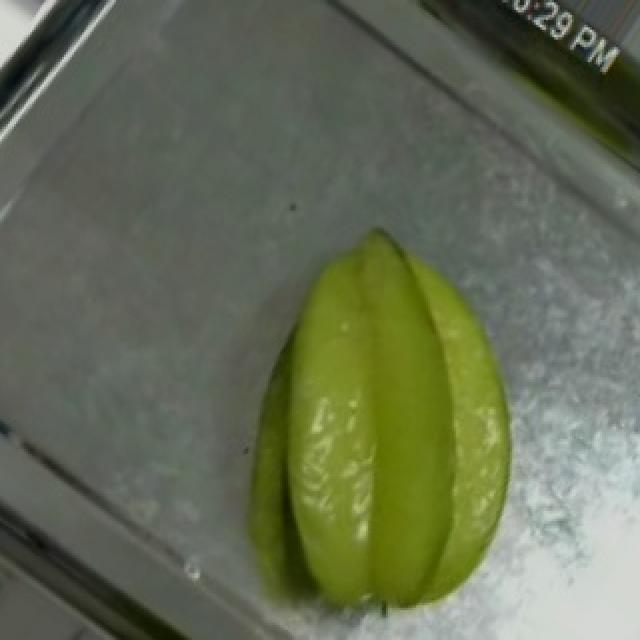fruit: (242, 201, 570, 600)
